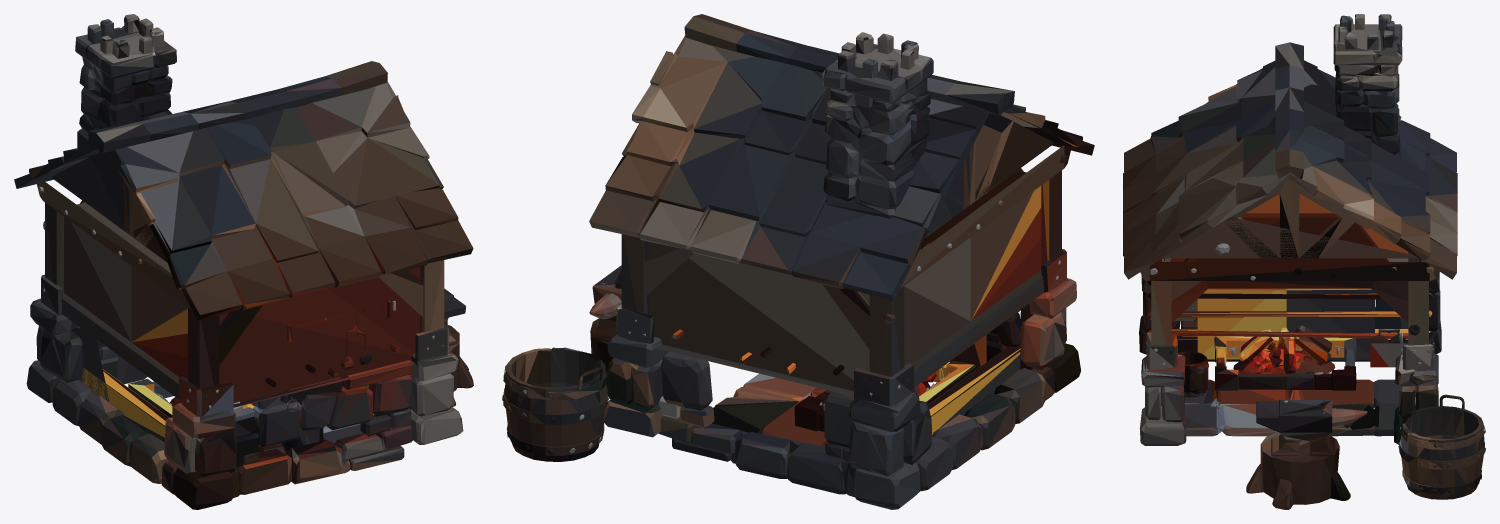
The model's file is Forge.glb.
3 renders of one model, left to right at view 1: azimuth 30°, elevation 25°; view 2: azimuth 150°, elevation 25°; view 3: azimuth 270°, elevation 25°, orthographic. The views are drawn at different scales.
Parts seen in each view (by area): view 1: world; view 2: world; view 3: world.
Boxes of the visible parts, left/top/right/bottom form: world: left=14, top=14, right=473, bottom=509; world: left=502, top=14, right=1094, bottom=509; world: left=1123, top=14, right=1485, bottom=509.
Bounding box in the file's own units: 0.998 × 0.998 × 0.9316.
